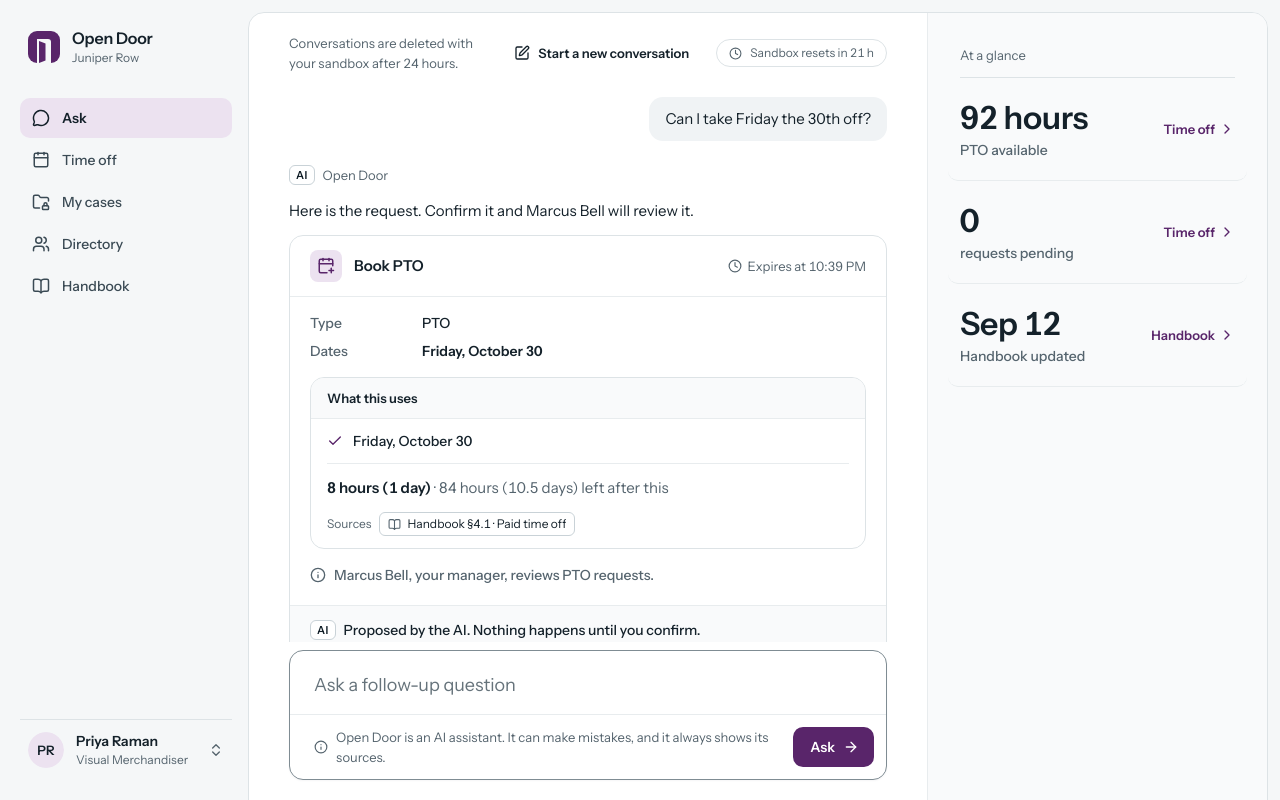
a card on a live turn › shows an earlier turn’s pending card as replaced as soon as a new card arrives
expect the button with aria-label "Confirm:" is shown: met, box [310,652,398,692]
Type "Can I take Friday the 30th off?" into the text box named "Ask Open Door" at (588, 679), box [290,651,886,707]
Then press Enter
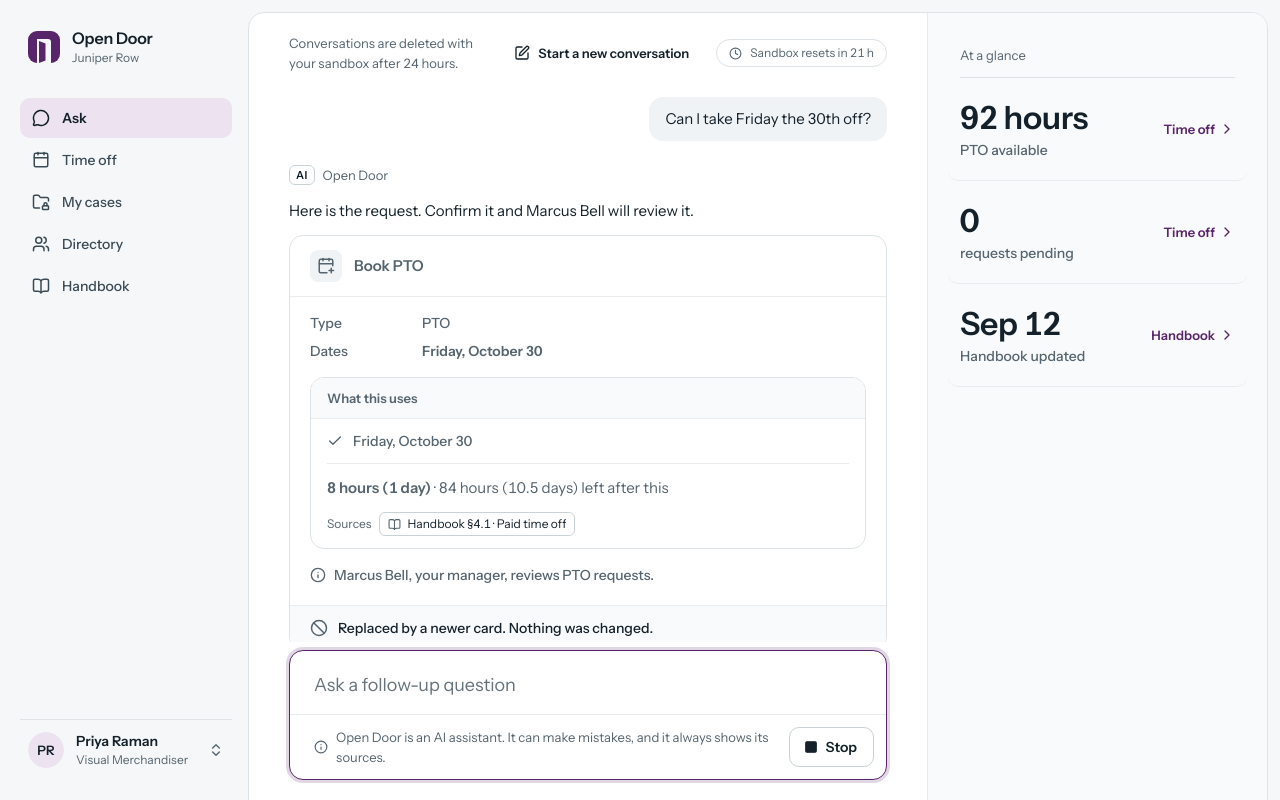
expect the text "Replaced by a newer card. Nothing was changed." is shown: met, box [338,619,653,637]
